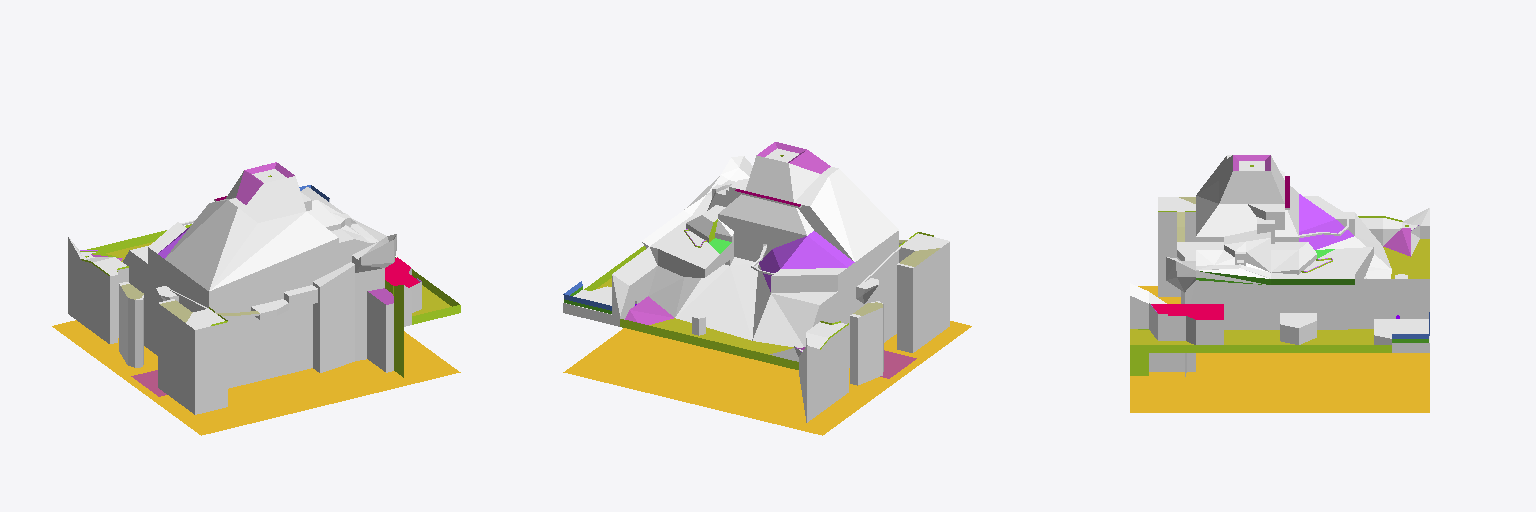
The model's file is Tiny Huge Island Area 1.obj.
3 renders of one model, left to right at view 1: azimuth 30°, elevation 25°; view 2: azimuth 150°, elevation 25°; view 3: azimuth 270°, elevation 25°, orthographic.
Bounding box in the file's own units: 32766 × 22526 × 32766.